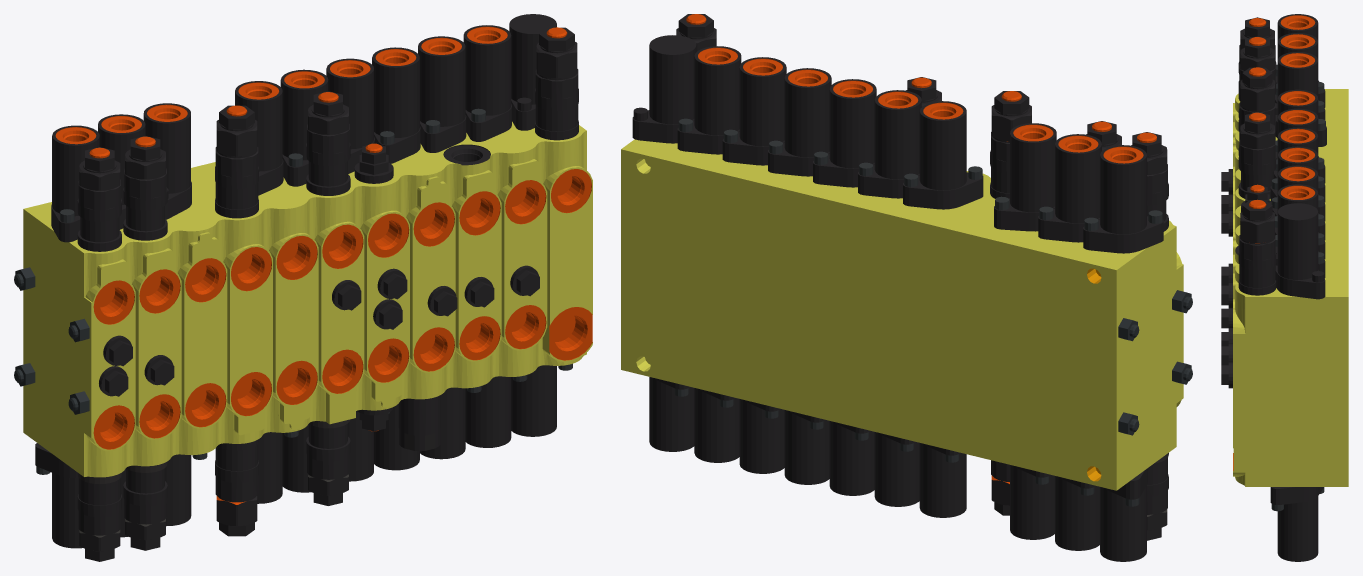
The model's file is ControlValve.glb.
The picture shows the model from 3 angles, left to right: view 1: azimuth 30°, elevation 25°; view 2: azimuth 150°, elevation 25°; view 3: azimuth 270°, elevation 25°; orthographic projection. The views are drawn at different scales.
Bounding box in the file's own units: 5.3 × 4.12 × 1.32.
